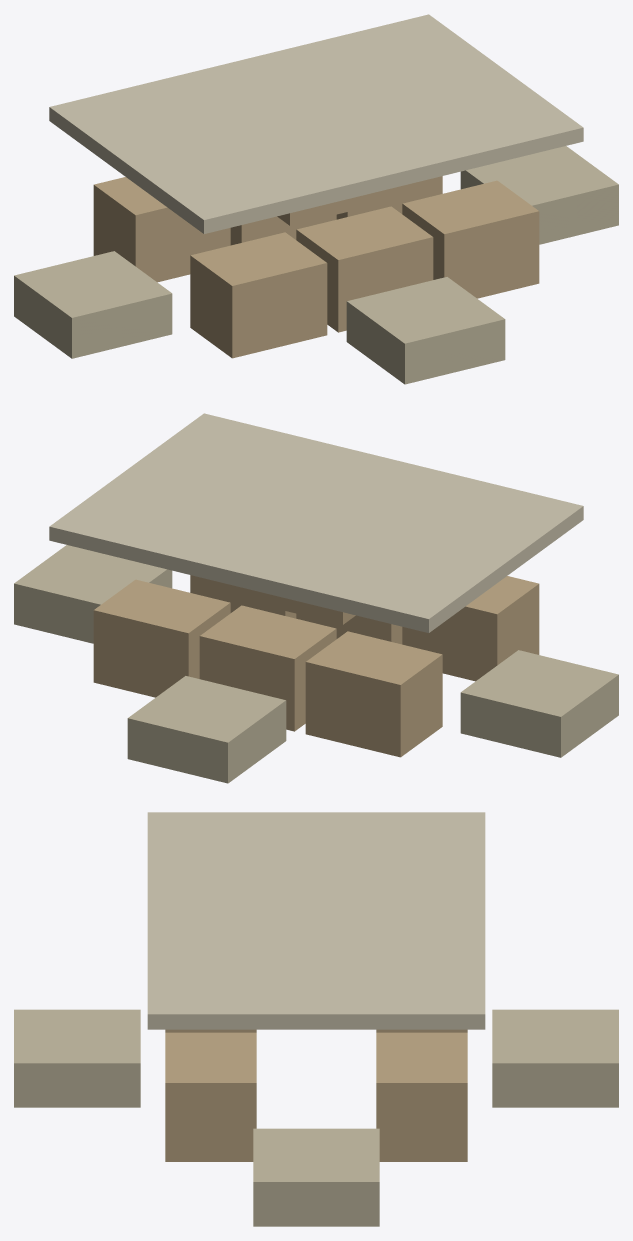
The model's file is ammodepot.glb.
3 views of the same model, one above another, from view 1: azimuth 30°, elevation 25°; view 2: azimuth 150°, elevation 25°; view 3: azimuth 270°, elevation 25° (orthographic). The views are drawn at different scales.
Visible parts, largest first — view 1: ammodepot; view 2: ammodepot; view 3: ammodepot.
Part boxes in pixels (x1,y1,x2,y2): ammodepot: (14, 14, 618, 384); ammodepot: (14, 413, 618, 783); ammodepot: (14, 812, 618, 1226).
Bounding box in the file's own units: 4.9 × 1.32 × 4.3.
